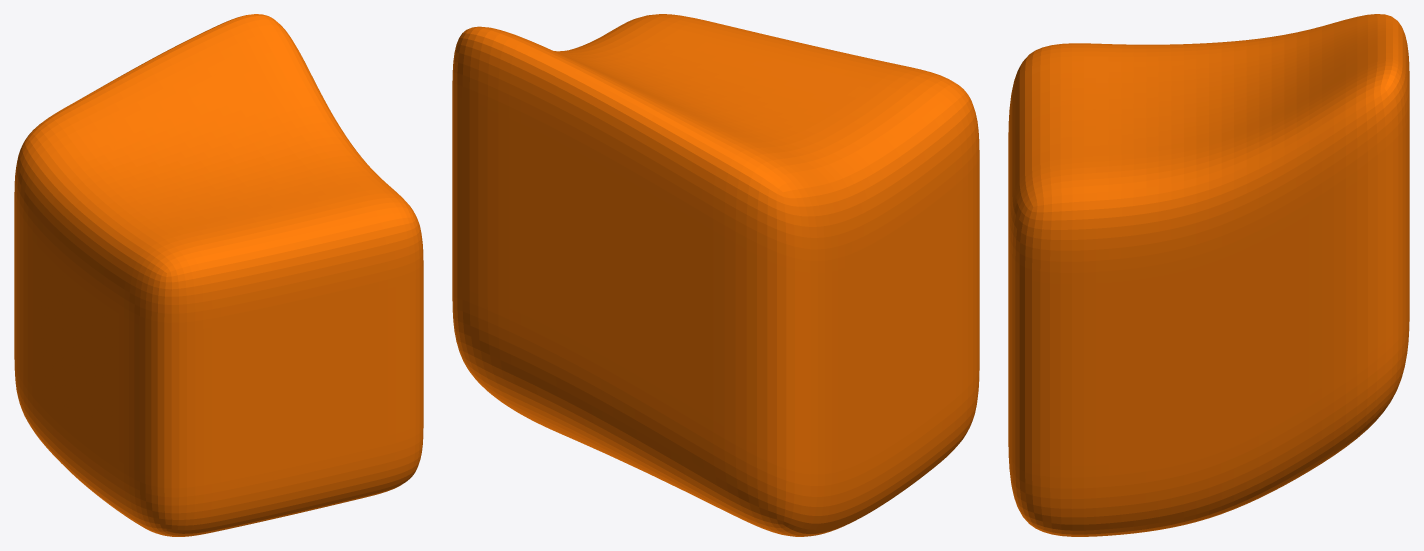
The picture shows the model from 3 angles, left to right: view 1: azimuth 30°, elevation 25°; view 2: azimuth 150°, elevation 25°; view 3: azimuth 270°, elevation 25°; orthographic projection. The views are drawn at different scales.
Parts seen in each view (by area): view 1: smooth_1_base.006; view 2: smooth_1_base.006; view 3: smooth_1_base.006.
Part boxes in pixels (x1,y1,x2,y2): smooth_1_base.006: (14,14,423,536); smooth_1_base.006: (452,14,979,536); smooth_1_base.006: (1008,14,1409,536).
Bounding box in the file's own units: 60 × 76.8 × 60.
